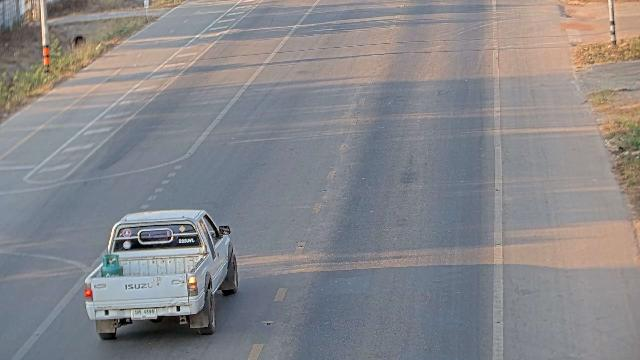pickup-truck: (83, 208, 239, 340)
